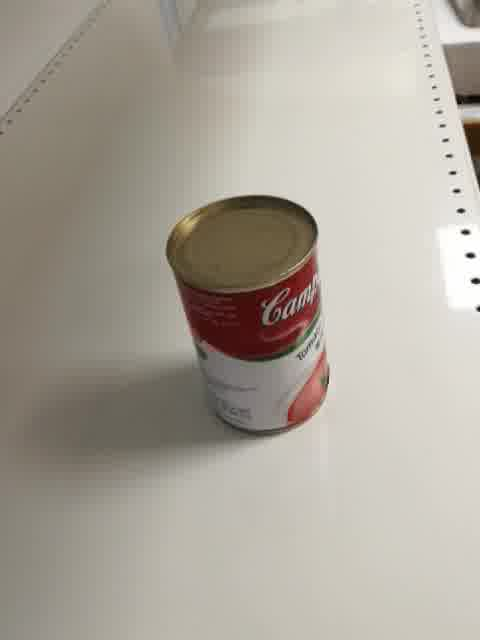tomatosoup: (163, 192, 329, 438)
